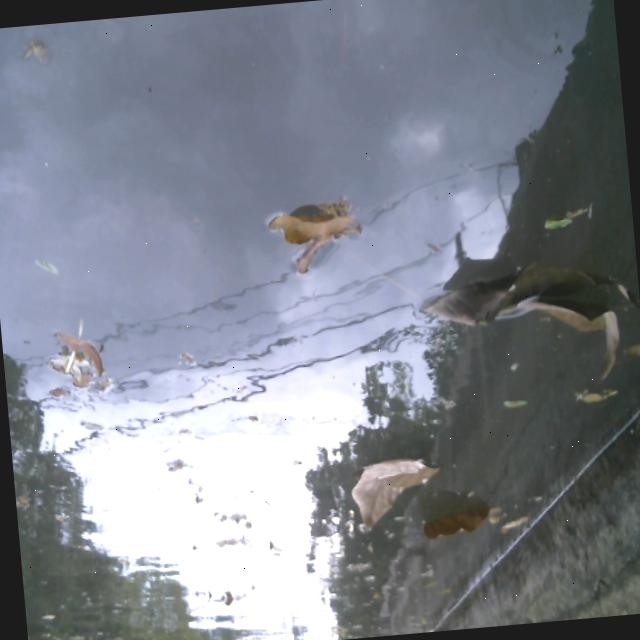Big-leaf: (408, 251, 635, 399), (245, 162, 387, 299), (325, 433, 438, 521), (409, 492, 511, 549)
Small-leaf: (37, 315, 112, 387), (538, 173, 607, 249), (497, 371, 551, 416), (572, 360, 616, 407), (495, 500, 532, 539), (627, 332, 640, 368)
